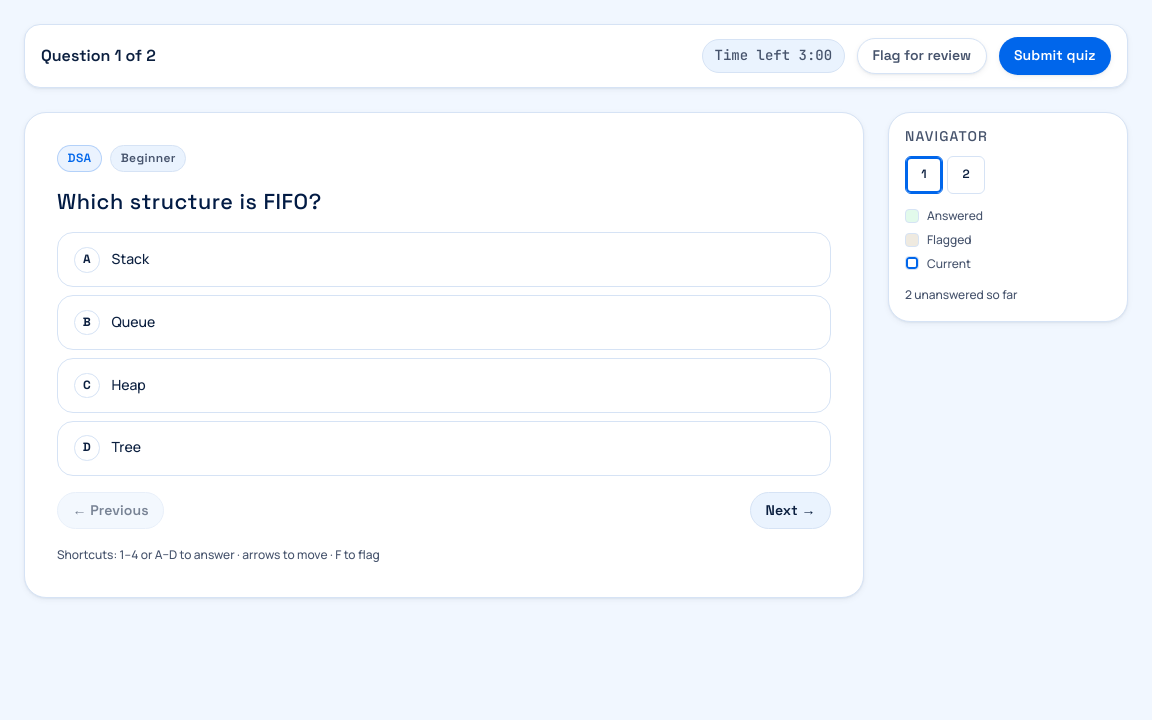
Scenario: QuizScreen submit confirmation › lets the user keep answering and restores the button
Click the button "Submit quiz". click: (1055, 56)
box: x1=998 y1=37 x2=1111 y2=75
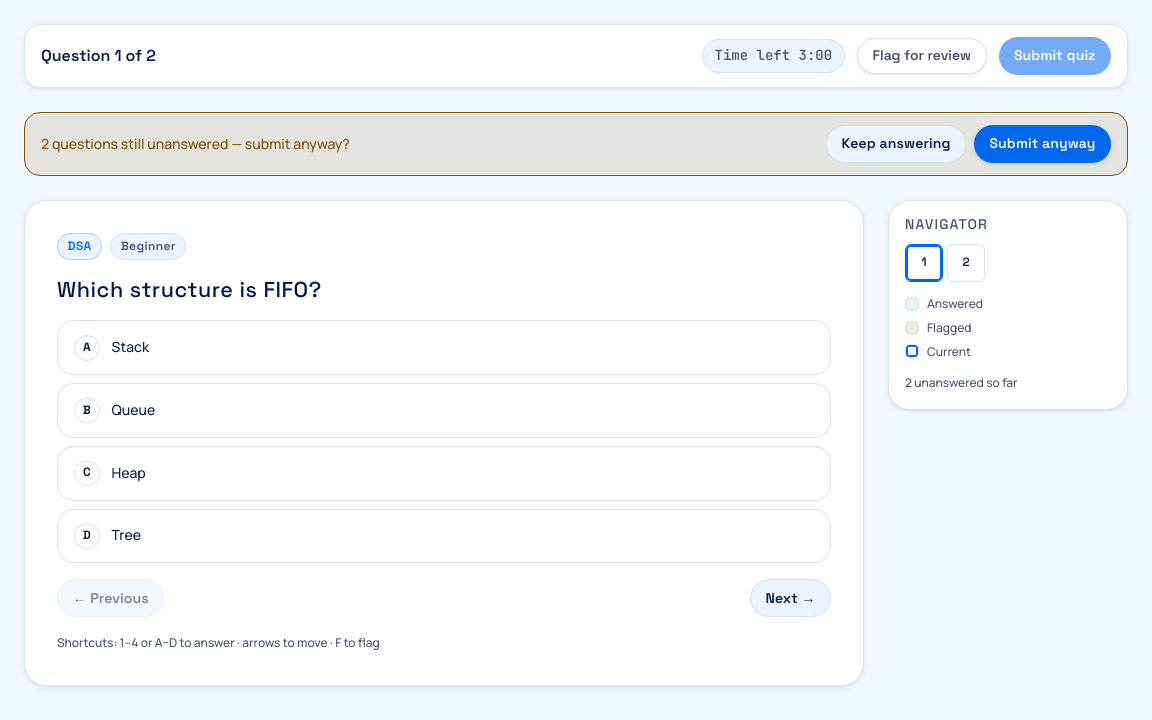
Click the button "Keep answering". click: (896, 144)
box: x1=826 y1=125 x2=966 y2=163
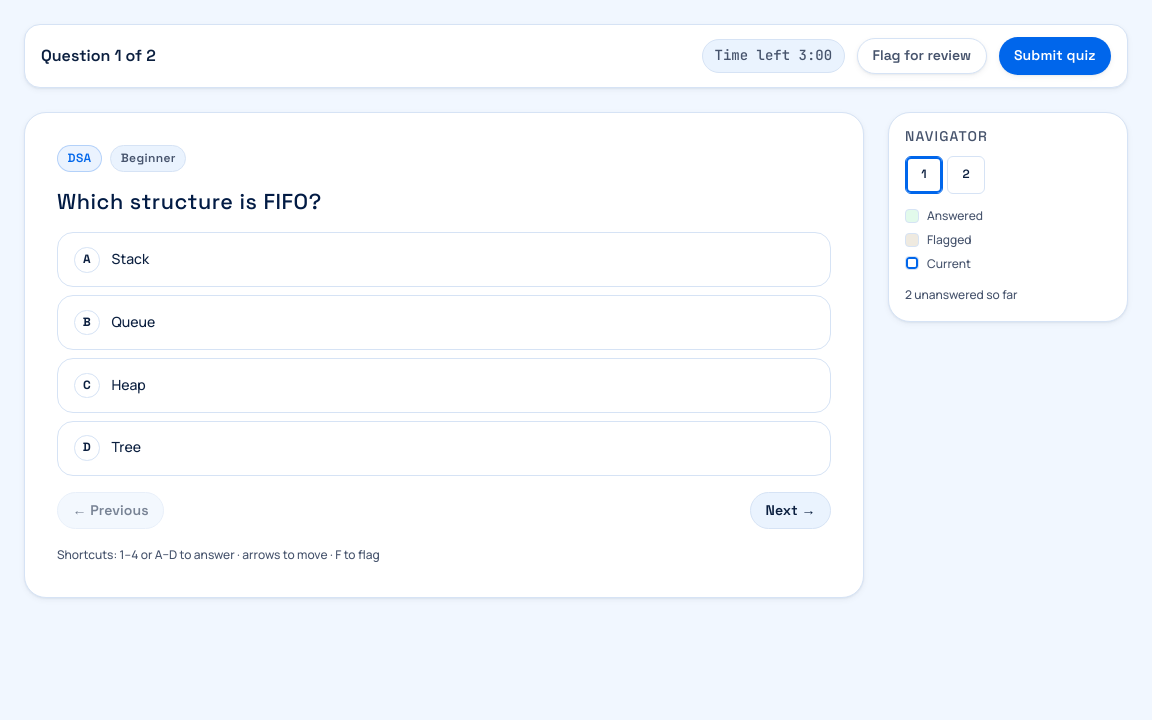
Now the message "2 questions still unanswered — submit anyway? Keep answering Submit anyway" is gone
Now the button "Submit quiz" is enabled, box x1=998 y1=37 x2=1111 y2=75
